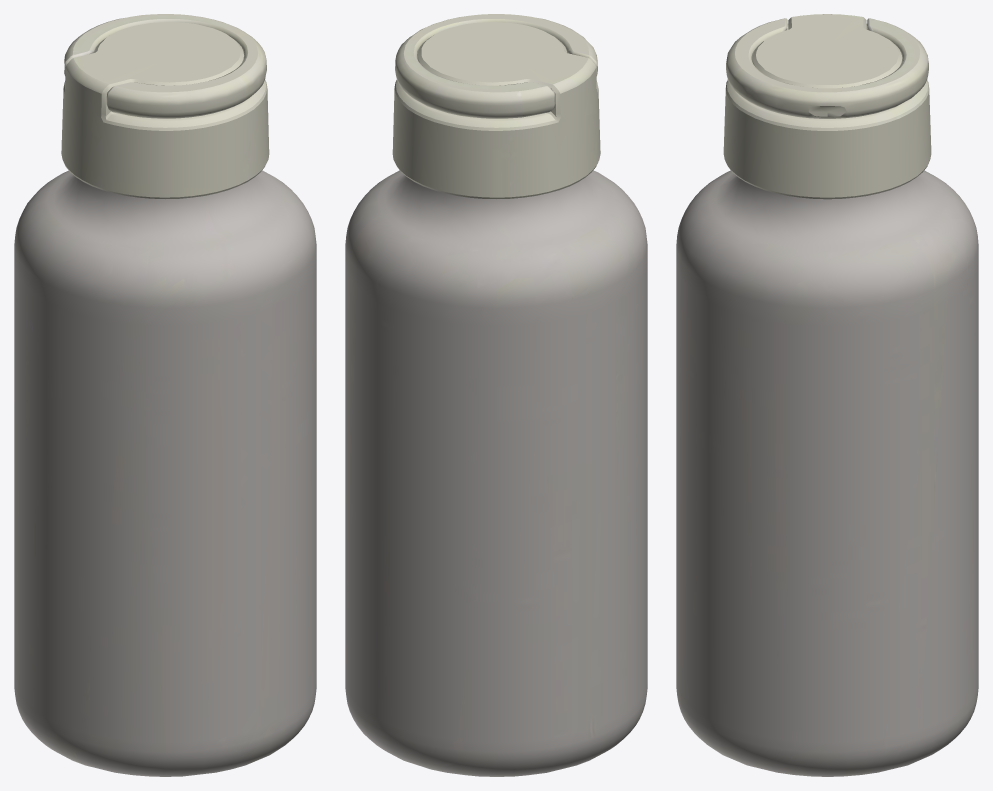
The model's file is ENKELSPÅRIG water bottle - stainless steelbeige.glb.
3 renders of one model, left to right at view 1: azimuth 30°, elevation 25°; view 2: azimuth 150°, elevation 25°; view 3: azimuth 270°, elevation 25°, orthographic.
Visible parts, largest first — view 1: 90500705-ENKELSPÃƒâ€¦RIG002; view 2: 90500705-ENKELSPÃƒâ€¦RIG002; view 3: 90500705-ENKELSPÃƒâ€¦RIG002.
Part boxes in pixels (x1,y1,x2,y2): 90500705-ENKELSPÃƒâ€¦RIG002: (14,14,316,776); 90500705-ENKELSPÃƒâ€¦RIG002: (345,14,647,776); 90500705-ENKELSPÃƒâ€¦RIG002: (676,14,978,776).
Bounding box in the file's own units: 0.07 × 0.1719 × 0.07.
1 material, 1 textured.
